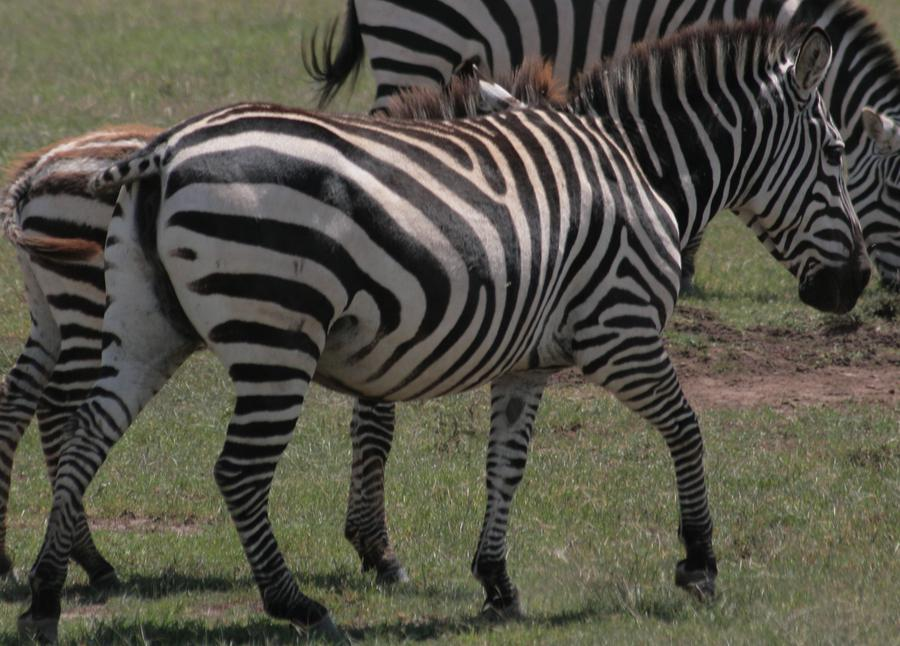zebra_plains: (218, 91, 651, 398)
